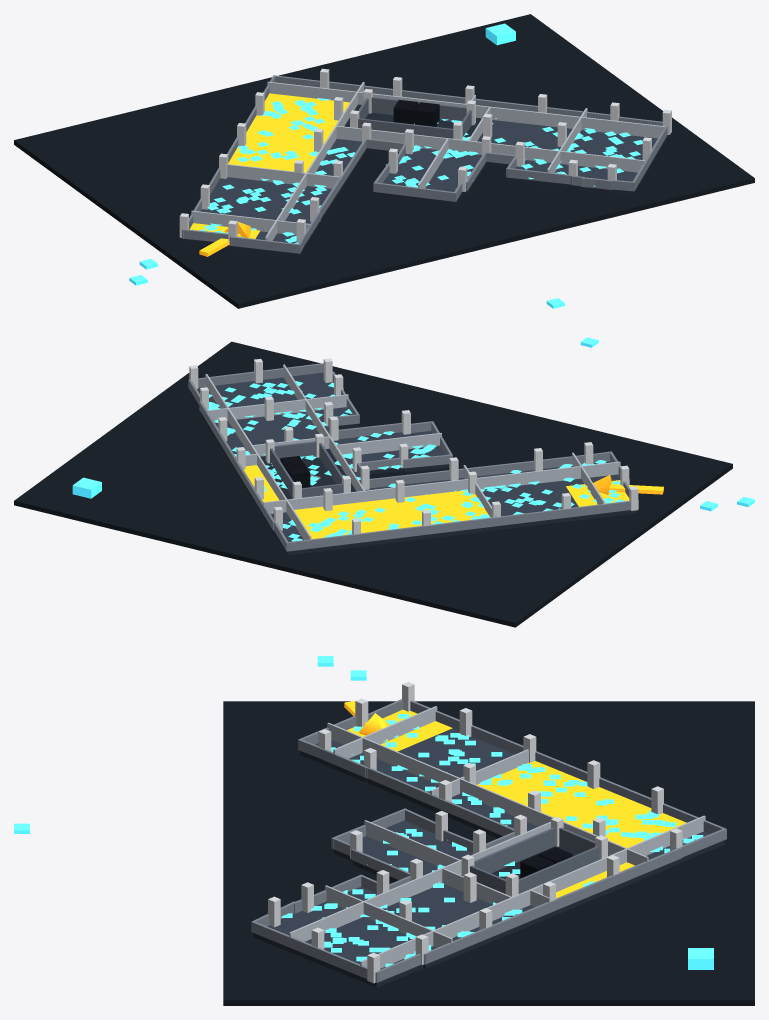
3 views of the same model, one above another, from view 1: azimuth 30°, elevation 25°; view 2: azimuth 150°, elevation 25°; view 3: azimuth 270°, elevation 25° (orthographic). The views are drawn at different scales.
Parts seen in each view (by area): view 1: FireSight 140 New Montgomery St floor 1; view 2: FireSight 140 New Montgomery St floor 1; view 3: FireSight 140 New Montgomery St floor 1.
Boxes of the visible parts, <box> form: FireSight 140 New Montgomery St floor 1: <box>14,14,754,308</box>; FireSight 140 New Montgomery St floor 1: <box>14,337,754,627</box>; FireSight 140 New Montgomery St floor 1: <box>14,656,754,1005</box>.
Bounding box in the file's own units: 0.7889 × 0.043 × 0.7372.
